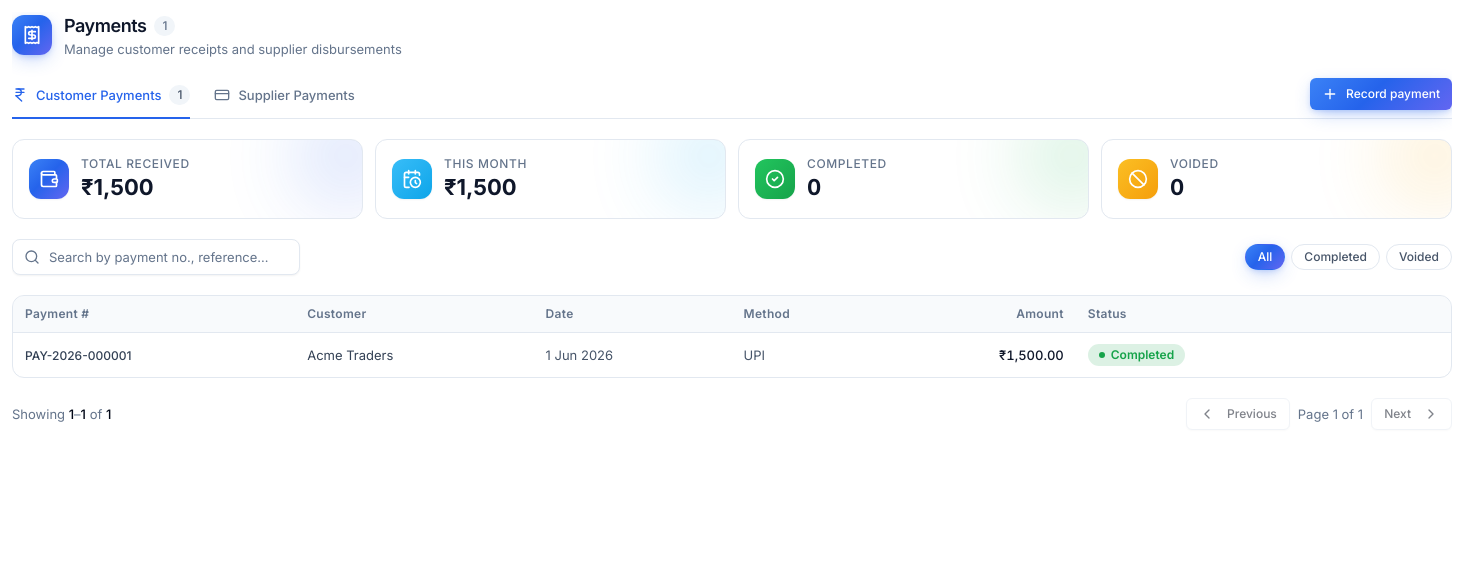
Test: PaymentsView › renders the supplier empty state when there are no supplier payments
The image size is (1464, 574).
Click the tab "Supplier Payments": [284, 102] box [214,85,355,119]
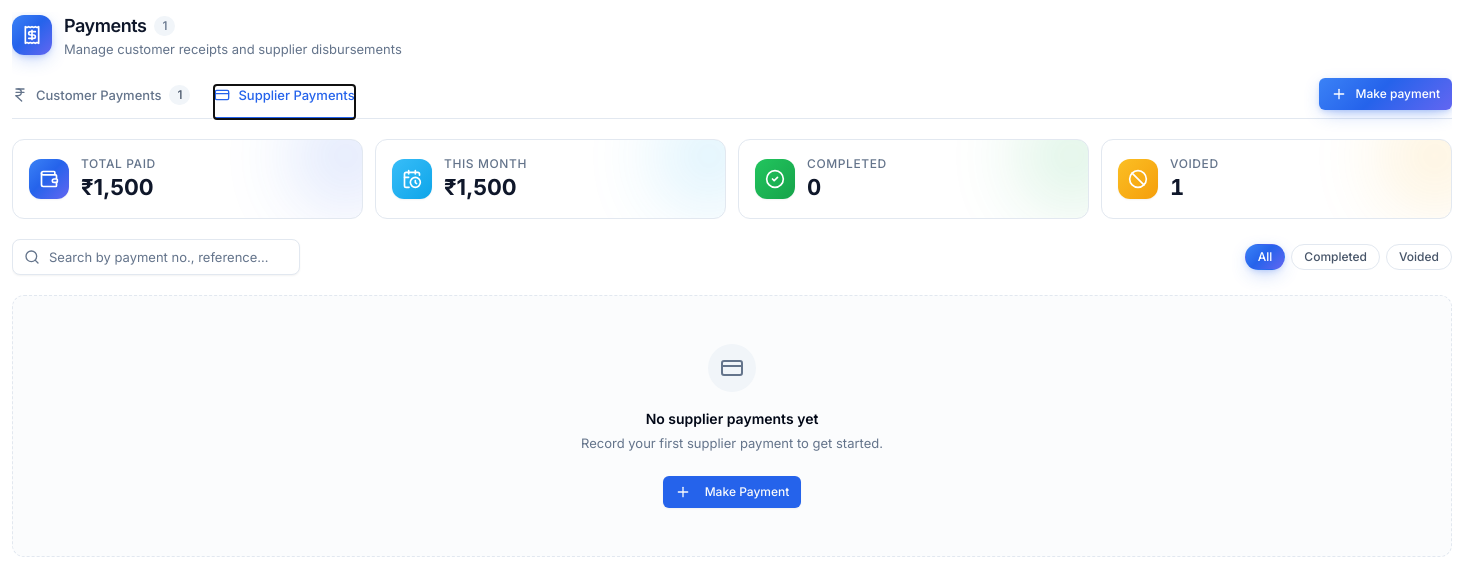
Expected: the heading "No supplier payments yet" is shown, [646,408,818,430]
